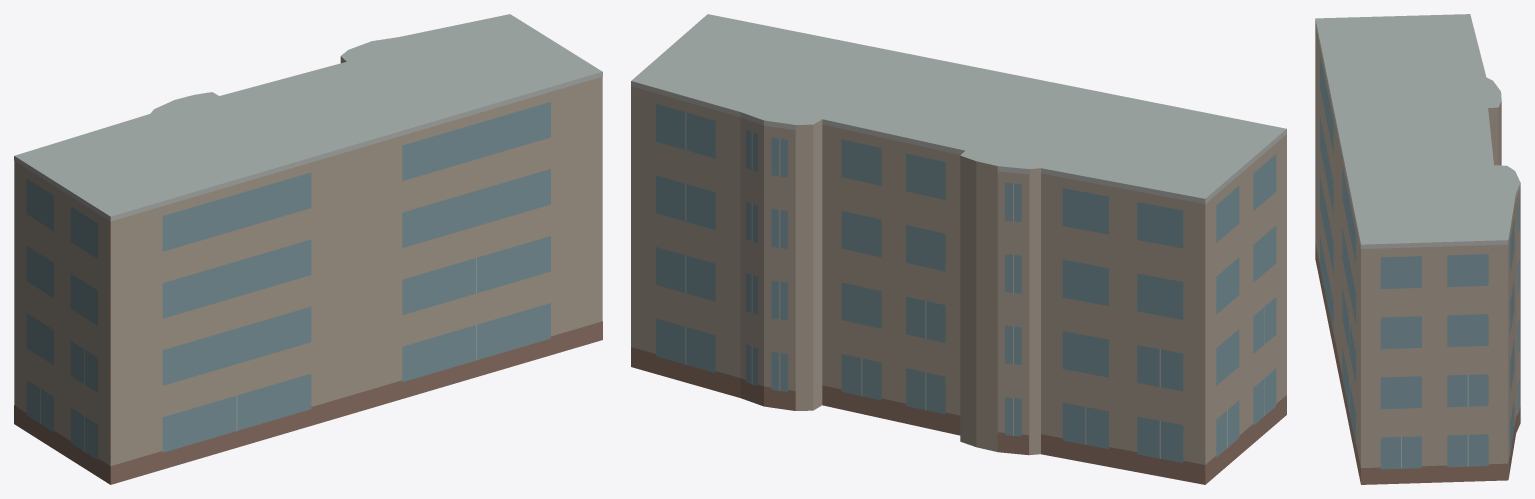
File: survey-upis-32616869.glb
3 renders of one model, left to right at view 1: azimuth 30°, elevation 25°; view 2: azimuth 150°, elevation 25°; view 3: azimuth 270°, elevation 25°, orthographic. The views are drawn at different scales.
Parts seen in each view (by area): view 1: survey-upis-32616869.tmp; view 2: survey-upis-32616869.tmp; view 3: survey-upis-32616869.tmp.
Part boxes in pixels (bbox=[...]): survey-upis-32616869.tmp: bbox=[14, 14, 602, 484]; survey-upis-32616869.tmp: bbox=[631, 14, 1286, 484]; survey-upis-32616869.tmp: bbox=[1315, 14, 1520, 484].
Bounding box in the file's own units: 27.39 × 13.3 × 10.31.
